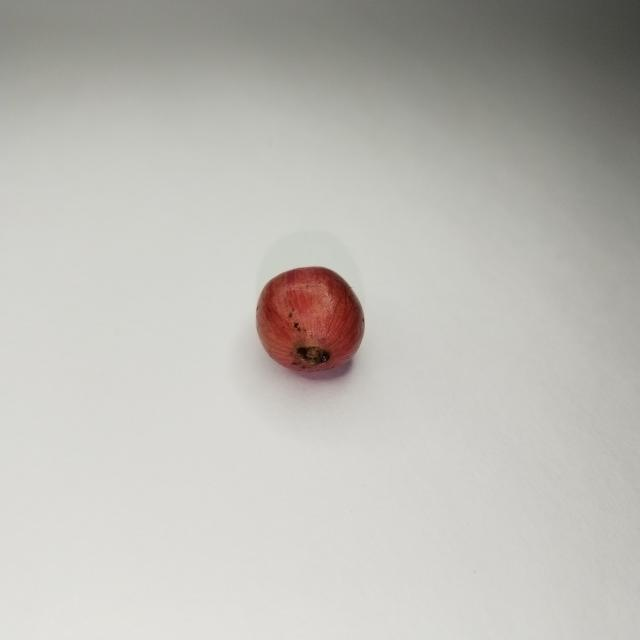Infectado: (257, 268, 362, 374)
